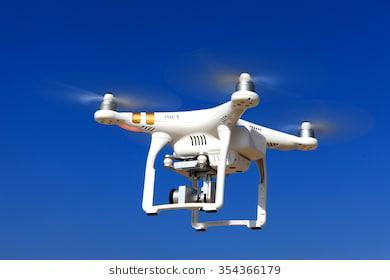drone: (93, 72, 320, 233)
